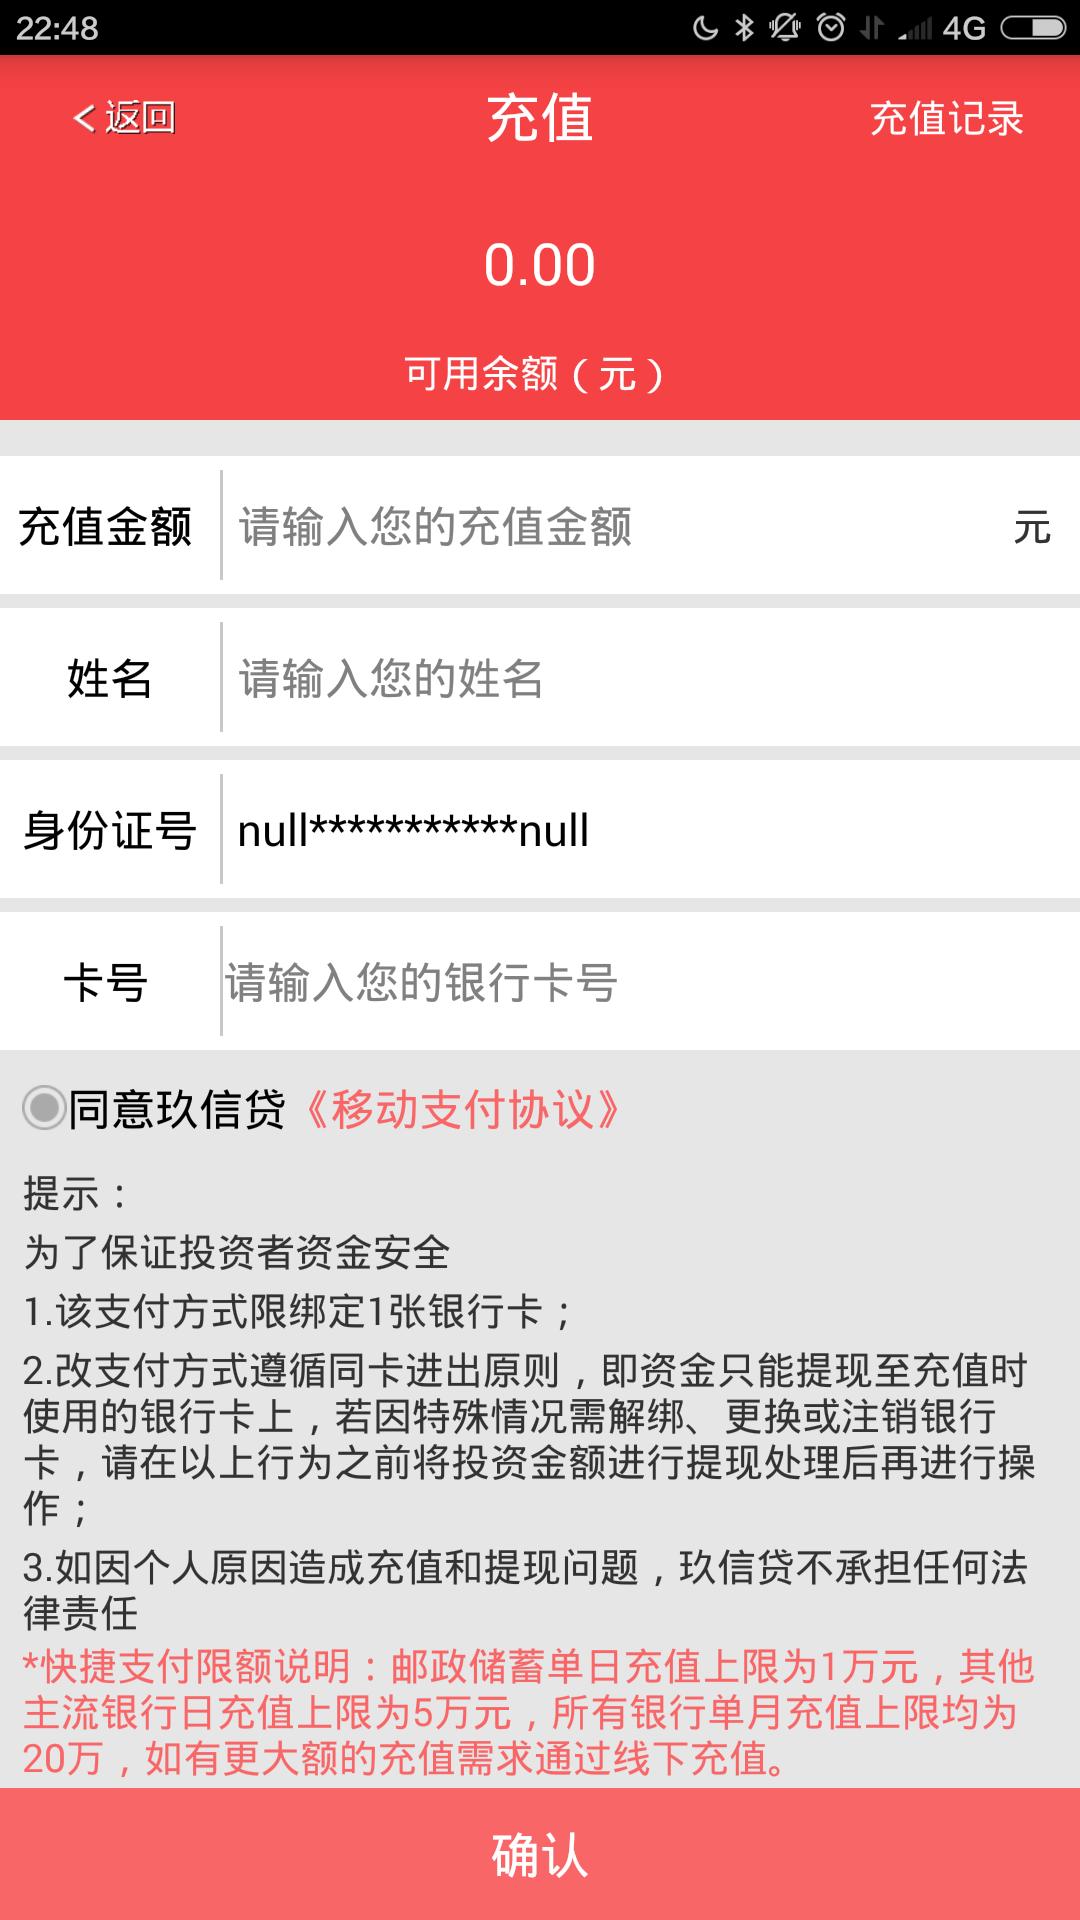checkbox: (8, 1069, 628, 1153)
textview: (7, 440, 1080, 1060), (16, 1170, 1080, 1782)
